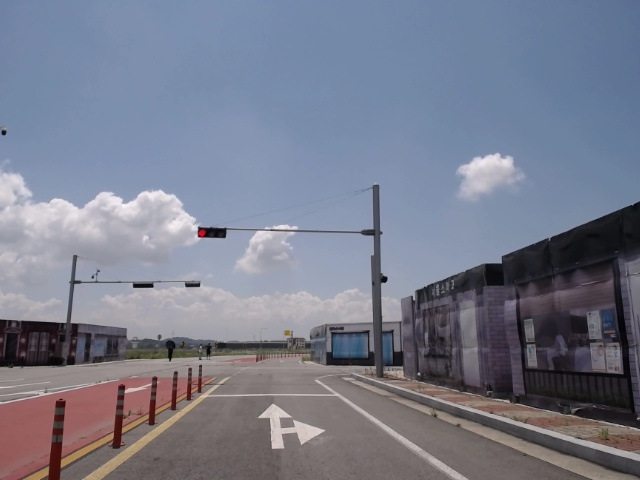red_3: (196, 225, 228, 240)
